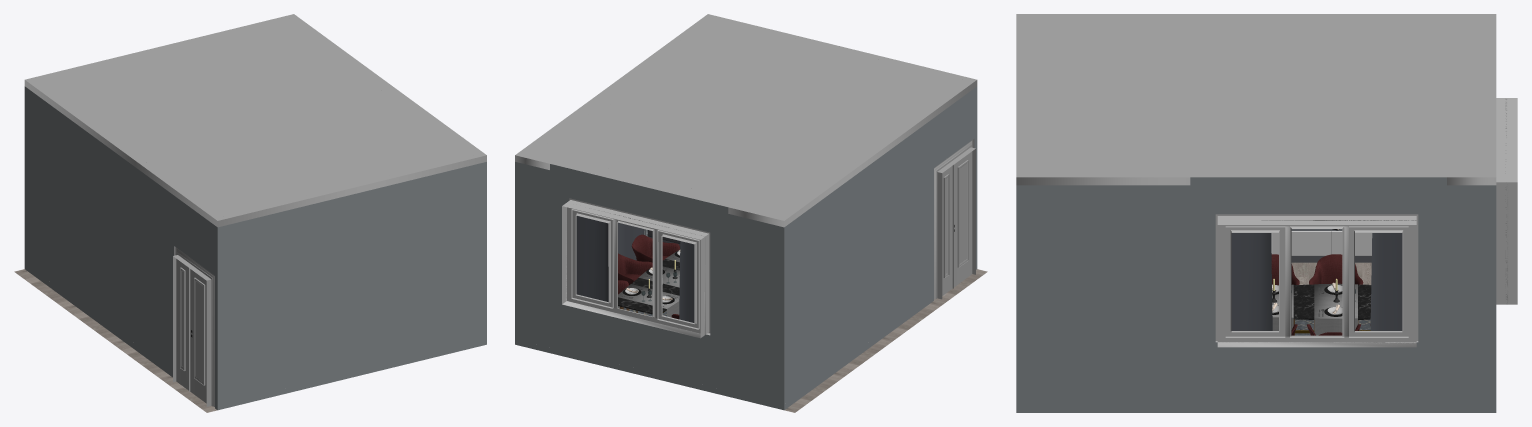
Rendered from livingroom.gltf.
3 views of the same model, side by side, from view 1: azimuth 30°, elevation 25°; view 2: azimuth 150°, elevation 25°; view 3: azimuth 270°, elevation 25° (orthographic). The views are drawn at different scales.
Visible parts, largest first — view 1: Exterior_Wall, Exterior_Ceiling, Furniture_Door, Furniture, Exterior_Floor; view 2: Exterior_Wall, Exterior_Ceiling, Furniture, Furniture_Door, Interior_CurtainCarpet, Interior_Table, Exterior_Floor, Interior_Dishes; view 3: Exterior_Wall, Exterior_Ceiling, Furniture, Interior_CurtainCarpet, Interior_Table, Interior_TV_Shelf, Exterior_Floor, Interior_Dishes.
Boxes of the visible parts, x1,y1,x2,y2 form: Exterior_Wall: (24, 86, 486, 410); Exterior_Ceiling: (25, 14, 486, 220); Furniture_Door: (173, 246, 214, 406); Furniture: (24, 80, 486, 337); Exterior_Floor: (14, 269, 217, 412); Exterior_Wall: (515, 86, 977, 410); Exterior_Ceiling: (515, 14, 976, 220); Furniture: (515, 80, 977, 338); Furniture_Door: (934, 139, 975, 299); Interior_CurtainCarpet: (576, 216, 694, 322); Interior_Table: (618, 234, 679, 319); Exterior_Floor: (784, 269, 987, 412); Interior_Dishes: (621, 250, 680, 306); Exterior_Wall: (1016, 177, 1496, 412); Exterior_Ceiling: (1016, 14, 1496, 177); Furniture: (1016, 98, 1517, 347); Interior_CurtainCarpet: (1231, 233, 1402, 335); Interior_Table: (1271, 254, 1371, 335); Interior_TV_Shelf: (1271, 229, 1372, 262); Exterior_Floor: (1291, 262, 1371, 284); Interior_Dishes: (1272, 278, 1342, 316).
Size of what is drawn, in the model's own units: 4.89 by 3 by 5.79.
Materials: 53 (20 with a texture image).
